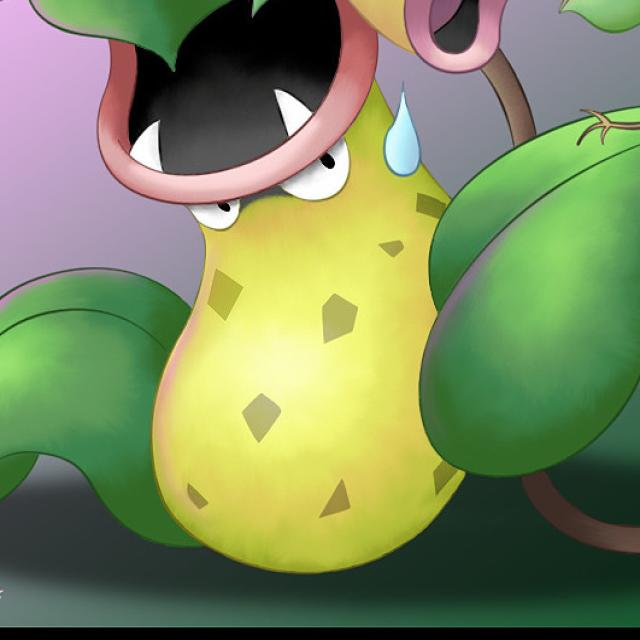Victreebel: (101, 26, 471, 560)
